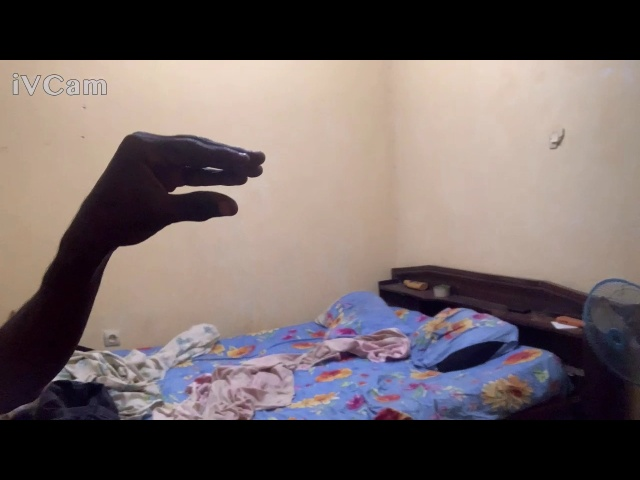non: (93, 123, 275, 249)
